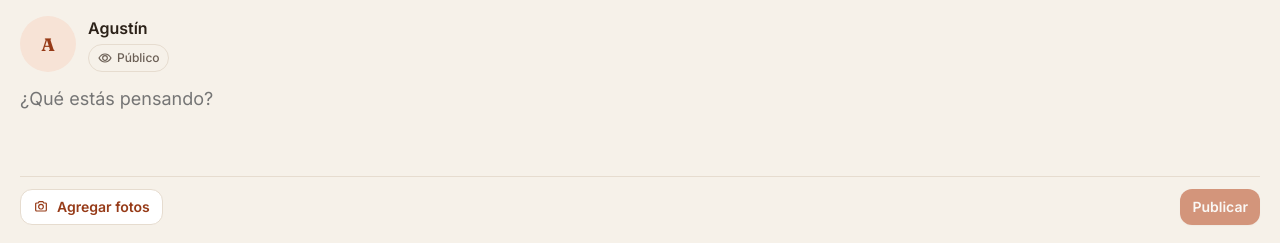
it: PostComposerForm › Publicar arranca deshabilitado y se habilita con texto
Expected: the button "Publicar" is disabled, [1180,189,1260,225]
In the text box with placeholder "¿Qué estás pensando?": (640, 124) [20,84,1260,164], type "hola"
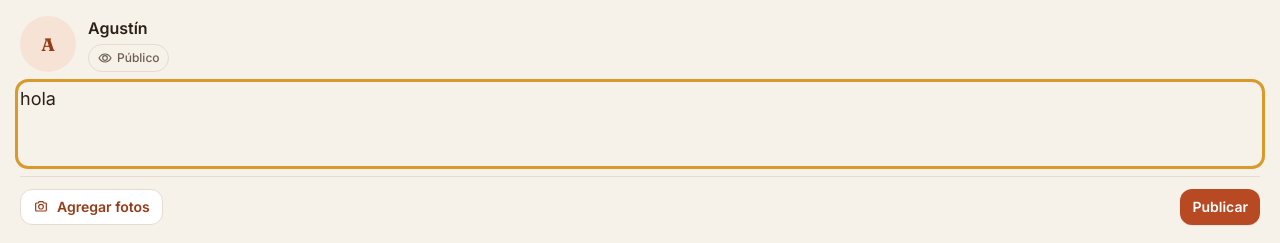
Expected: the button "Publicar" is enabled, [1180,189,1260,225]
